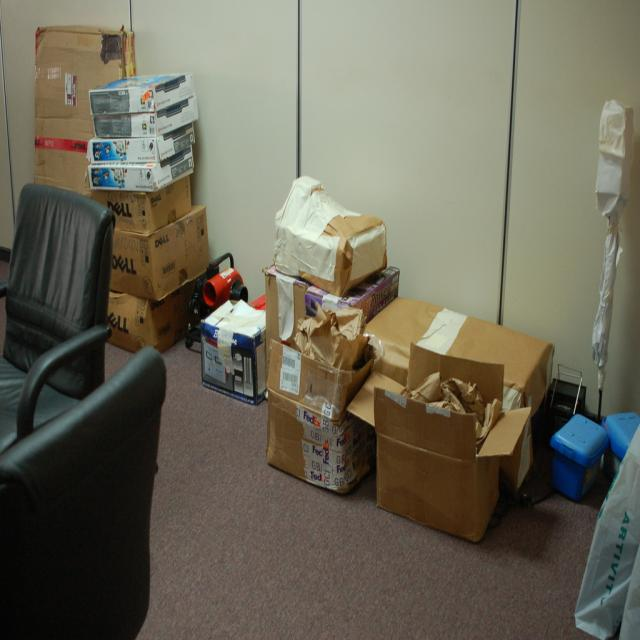Box: (346, 343, 532, 540), (363, 297, 555, 420), (33, 24, 135, 196), (263, 264, 399, 371), (273, 174, 387, 296), (266, 390, 379, 498), (106, 204, 208, 302), (268, 338, 374, 421), (200, 301, 267, 406), (108, 292, 208, 352), (94, 174, 190, 232), (85, 142, 192, 190), (551, 412, 607, 502), (88, 70, 194, 114), (93, 93, 198, 136), (86, 120, 196, 161), (602, 412, 640, 476)
